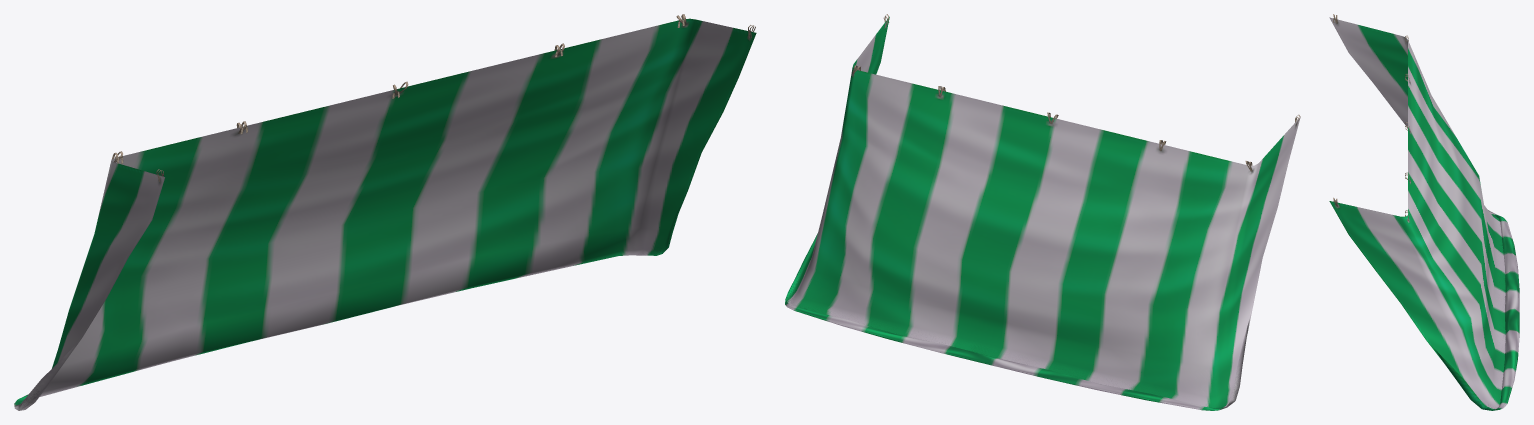
File: jsf_BackSide_s04_c05_t02.fbx
The picture shows the model from 3 angles, left to right: view 1: azimuth 30°, elevation 25°; view 2: azimuth 150°, elevation 25°; view 3: azimuth 270°, elevation 25°; orthographic projection. The views are drawn at different scales.
Parts seen in each view (by area): view 1: jsf_BackSide_s04_c05_t02; view 2: jsf_BackSide_s04_c05_t02; view 3: jsf_BackSide_s04_c05_t02.
Boxes of the visible parts, left/top/right/bottom form: jsf_BackSide_s04_c05_t02: left=14, top=14, right=756, bottom=410; jsf_BackSide_s04_c05_t02: left=785, top=14, right=1300, bottom=410; jsf_BackSide_s04_c05_t02: left=1329, top=14, right=1519, bottom=410.
Size of the model in its own units: 425 by 205 by 171.
